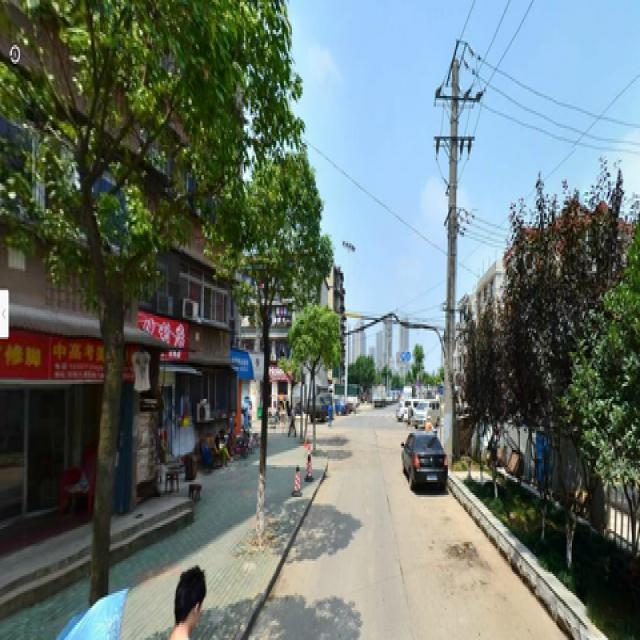cinn: (45, 15, 219, 557), (238, 170, 294, 522)
